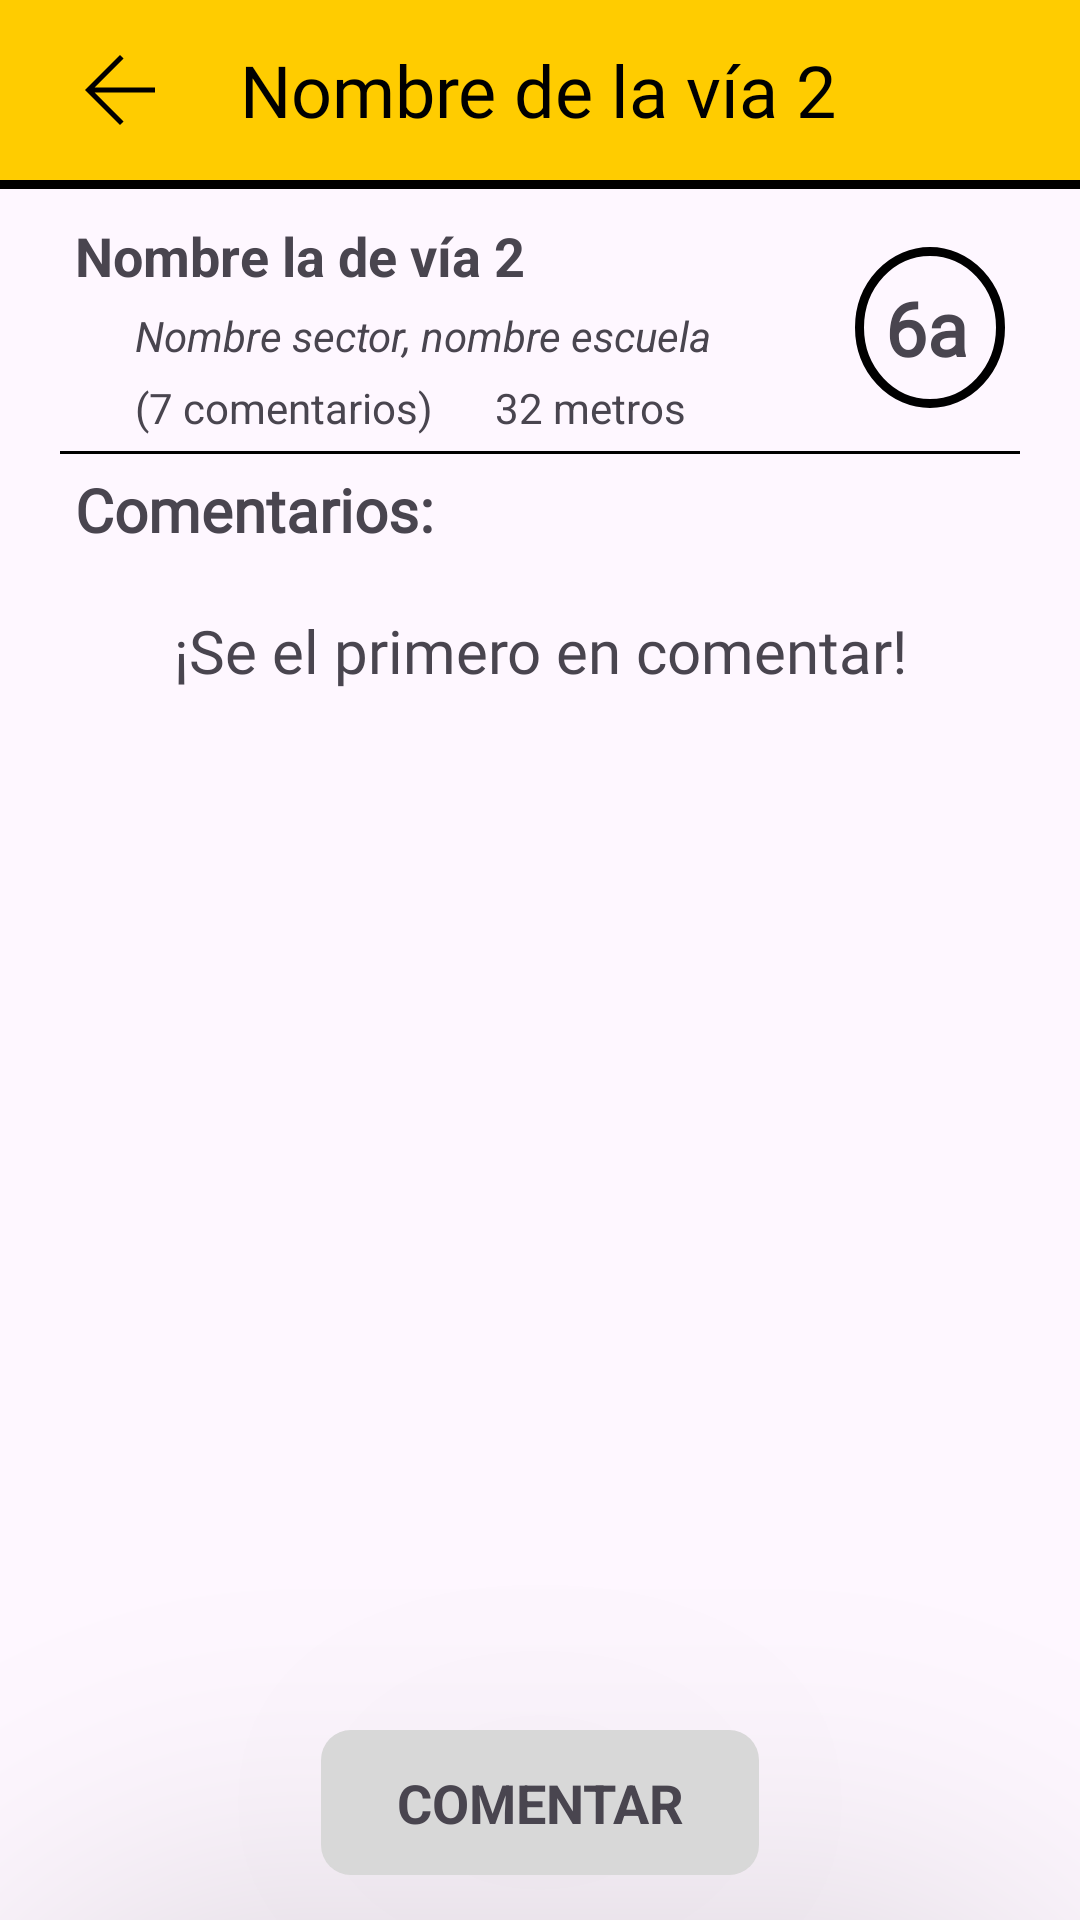

Icons on this 1080 × 1920 Android screen, each with its box as {"x1": x1, "y1": y1, "x2": x2, "y2": y2}:
flecha atras: {"x1": 85, "y1": 55, "x2": 155, "y2": 125}
